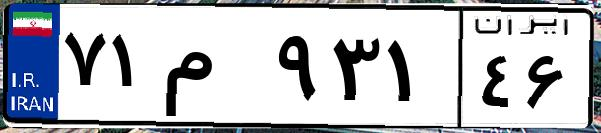1: (385, 28, 445, 110), (110, 28, 158, 98)
3: (330, 28, 385, 110)
4: (475, 38, 525, 113)
6: (525, 38, 570, 115)
7: (57, 26, 110, 100)
9: (270, 28, 330, 110)
م: (158, 20, 270, 120)
